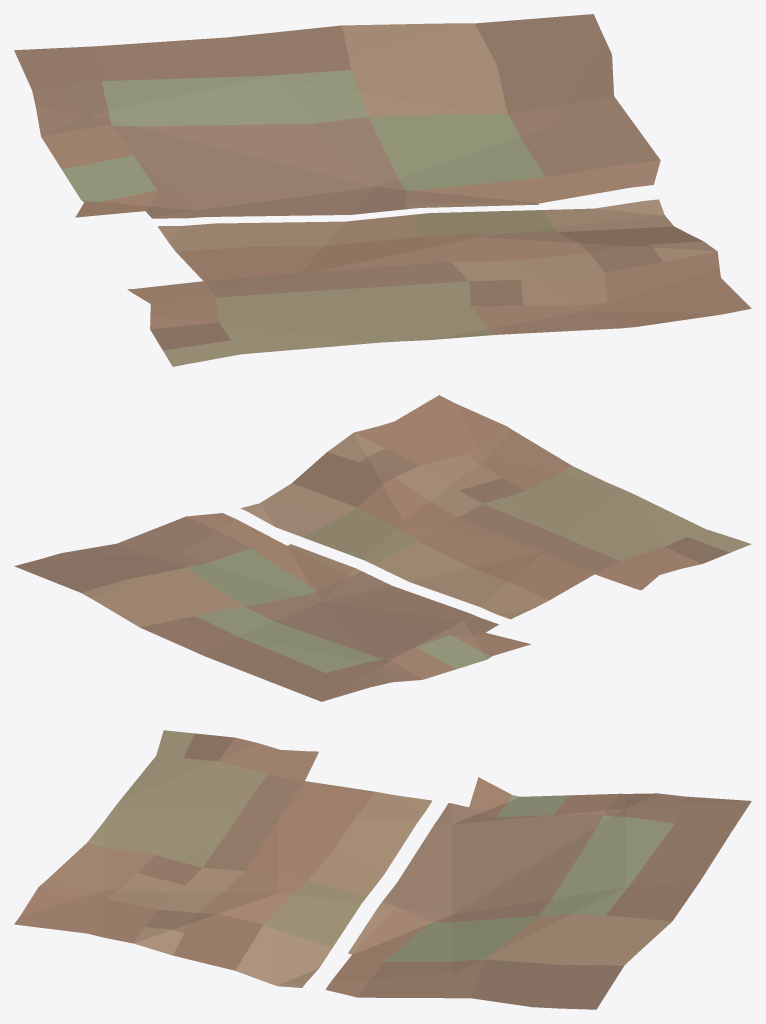
Rendered from farm_-29_-28_soil.glb.
3 views of the same model, one above another, from view 1: azimuth 30°, elevation 25°; view 2: azimuth 150°, elevation 25°; view 3: azimuth 270°, elevation 25° (orthographic). The views are drawn at different scales.
Visible parts, largest first — view 1: geometry_0; view 2: geometry_0; view 3: geometry_0.
Part boxes in pixels (x1,y1,x2,y2): geometry_0: [14, 14, 751, 366]; geometry_0: [14, 395, 751, 701]; geometry_0: [14, 730, 751, 1009].
Size of the model in its own units: 301 by 20.56 by 340.
